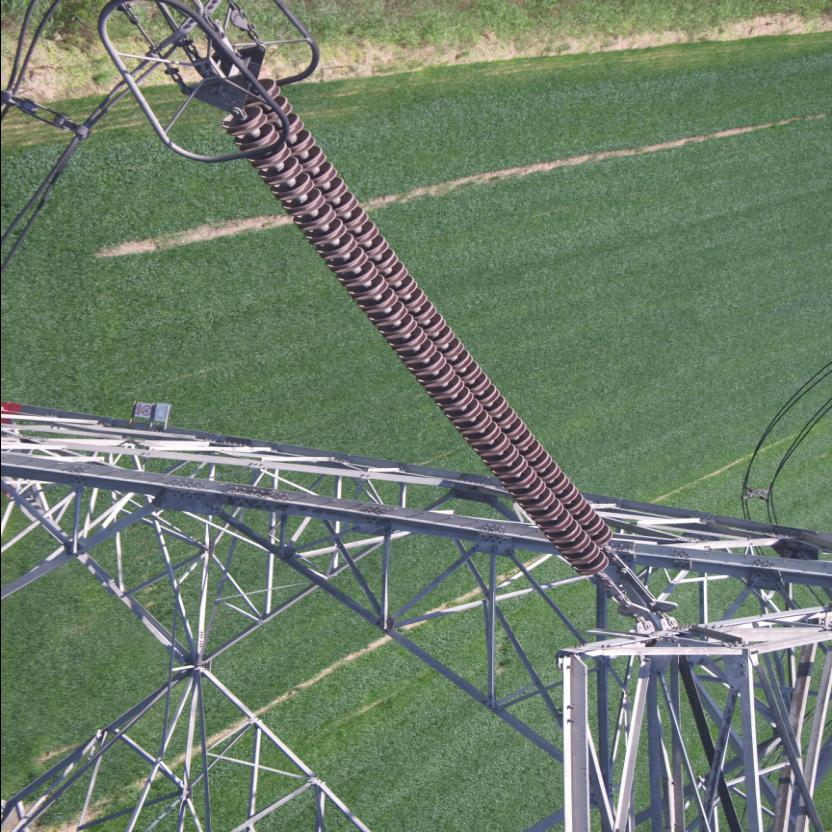insulator: (216, 72, 629, 588)
